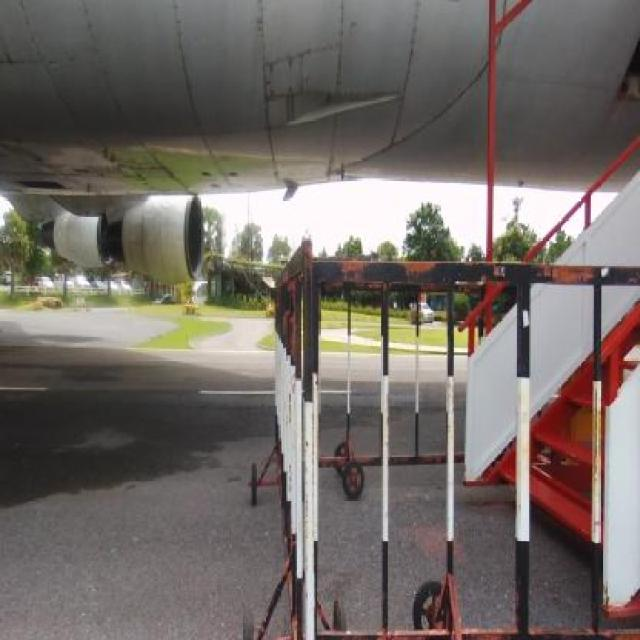Missing-Rivet: (260, 36, 342, 124), (253, 4, 284, 188), (394, 1, 418, 147), (326, 8, 346, 172)
